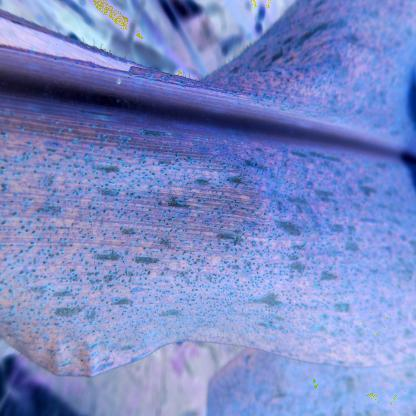Corn rust leaf: (0, 10, 416, 377)
